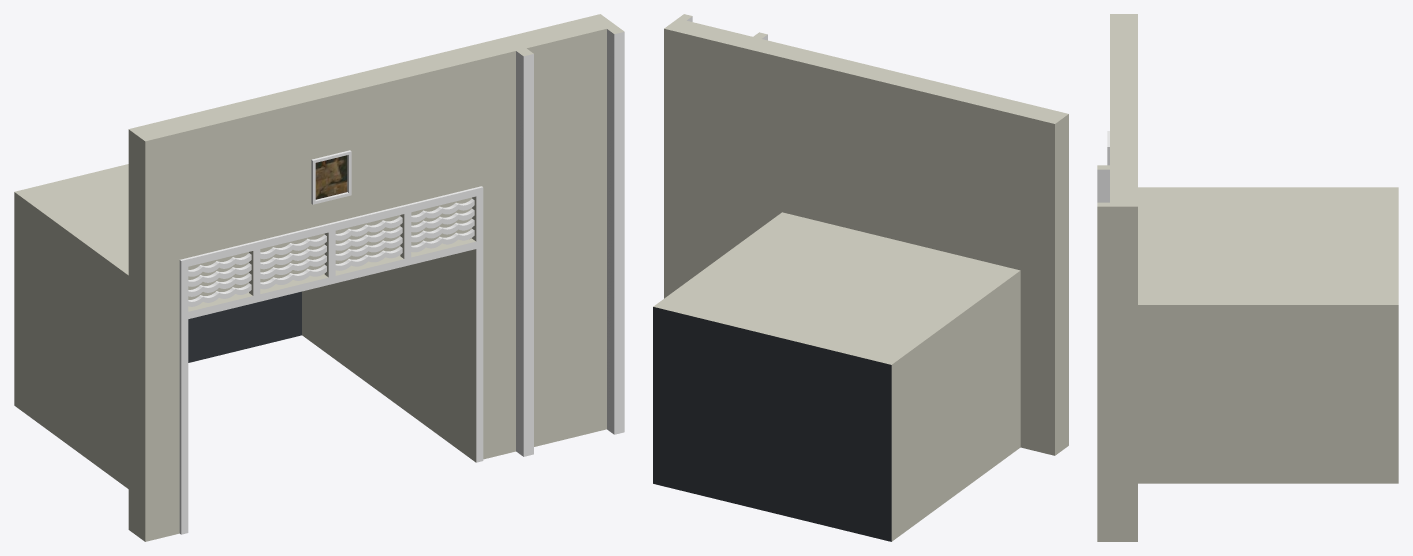
Rendered from cuaPhai.glb.
3 views of the same model, side by side, from view 1: azimuth 30°, elevation 25°; view 2: azimuth 150°, elevation 25°; view 3: azimuth 270°, elevation 25° (orthographic). The views are drawn at different scales.
Visible parts, largest first — view 1: _C-Component#17 (Loose Mesh).001, C-Component#18.007, C-Component#18.004, C-Component#18.006, C-Component#18.005, C-Component#34; view 2: _C-Component#17 (Loose Mesh).001; view 3: _C-Component#17 (Loose Mesh).001.
Part boxes in pixels (bbox=[...]): _C-Component#17 (Loose Mesh).001: bbox=[14, 14, 624, 541]; C-Component#18.007: bbox=[335, 216, 402, 270]; C-Component#18.004: bbox=[260, 234, 326, 289]; C-Component#18.006: bbox=[411, 198, 474, 252]; C-Component#18.005: bbox=[188, 253, 251, 306]; C-Component#34: bbox=[315, 155, 347, 199]; _C-Component#17 (Loose Mesh).001: bbox=[653, 14, 1068, 541]; _C-Component#17 (Loose Mesh).001: bbox=[1097, 14, 1398, 541].
Bounding box in the file's own units: 8.74 × 7.09 × 5.77.
4 materials, 1 textured.
